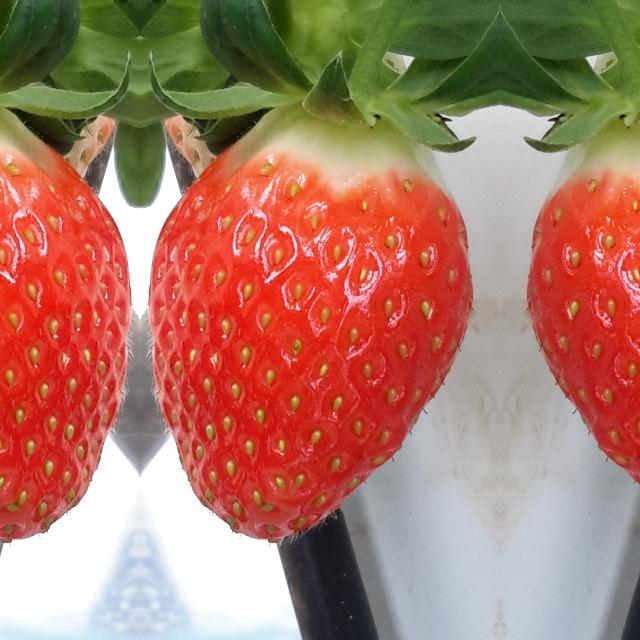Health_100: (147, 110, 471, 542), (0, 110, 133, 542), (529, 110, 640, 542)
